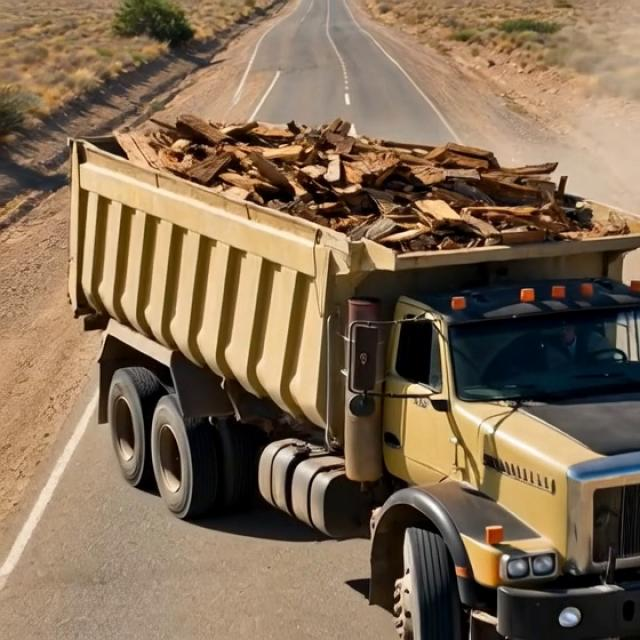Box: (80, 117, 638, 265)
Truck: (65, 106, 640, 634)
